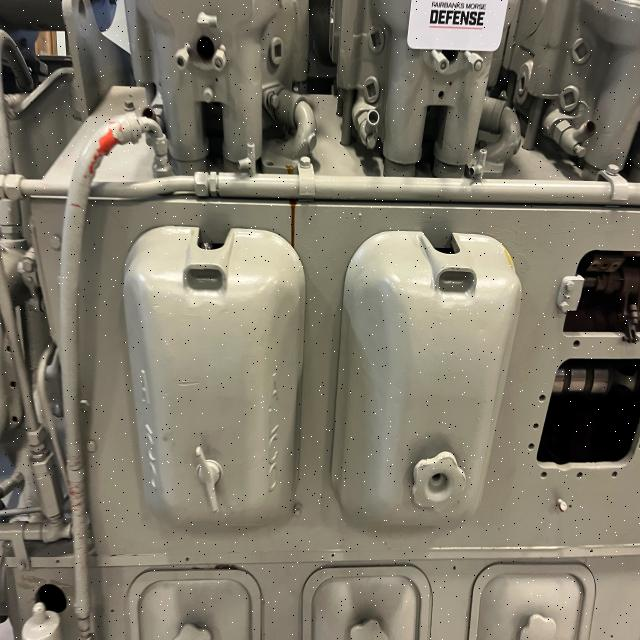Oil Leak: (287, 199, 297, 248), (285, 163, 298, 176)
